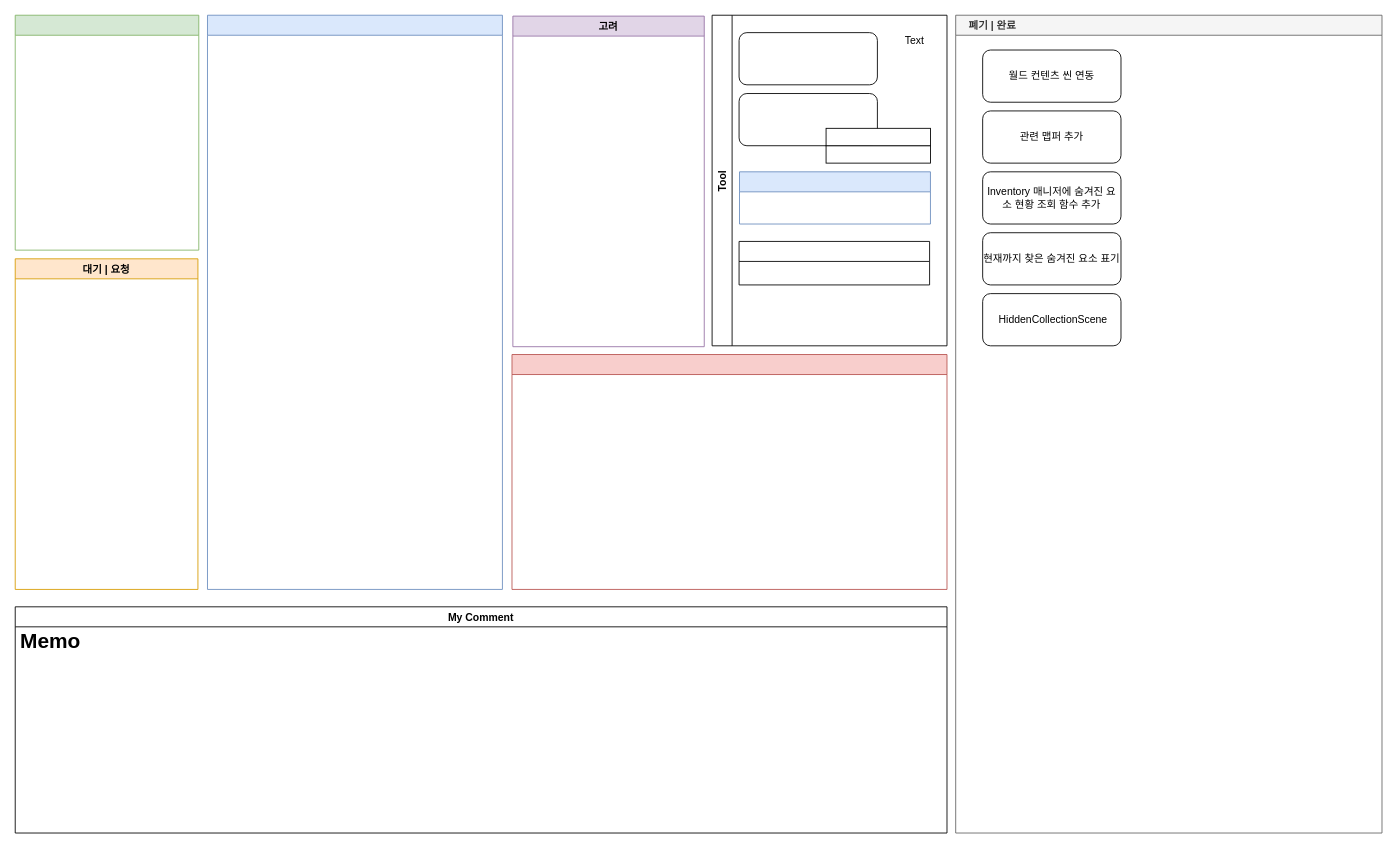
Image size: 1397x848. Some labels were removed from this diagram. Here are the shapes that lost their labels. From the top down, the centre of each, then its label:
the point at 106,132: 분석 | 논의
the point at 354,301: 구현
the point at 729,471: 에러 | 수정
